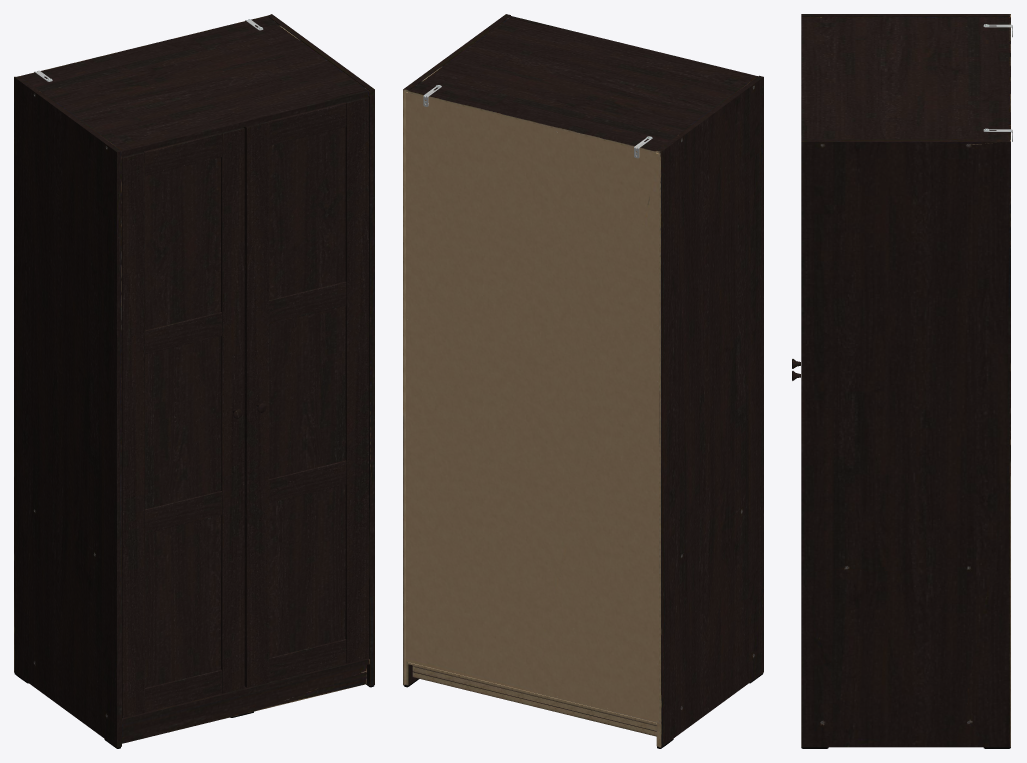
Rendered from rakkestad_wardrobe_with_2_doors_black_br.glb.
The picture shows the model from 3 angles, left to right: view 1: azimuth 30°, elevation 25°; view 2: azimuth 150°, elevation 25°; view 3: azimuth 270°, elevation 25°; orthographic projection.
Visible parts, largest first — view 1: ASY_ART_40586805_S01_NV01, ASY_LPT02_40586805_S01_NV01, ASY_LPT01_40586805_S01_NV01; view 2: ASY_ART_40586805_S01_NV01; view 3: ASY_ART_40586805_S01_NV01.
Boxes of the visible parts, x1=… form: ASY_ART_40586805_S01_NV01: x1=14, y1=14, x2=374, y2=748; ASY_LPT02_40586805_S01_NV01: x1=243, y1=97, x2=369, y2=687; ASY_LPT01_40586805_S01_NV01: x1=122, y1=127, x2=244, y2=717; ASY_ART_40586805_S01_NV01: x1=403, y1=14, x2=763, y2=748; ASY_ART_40586805_S01_NV01: x1=792, y1=14, x2=1012, y2=748.
Size of the model in its own units: 0.7948 by 1.76 by 0.5789.
3 materials, 3 textured.
